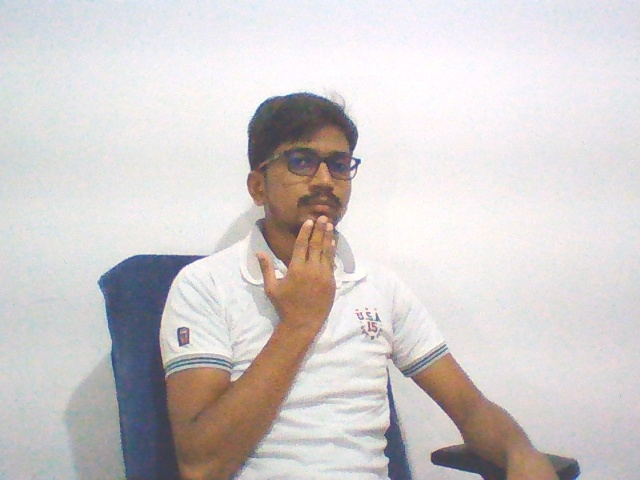mango: (253, 212, 344, 336)
